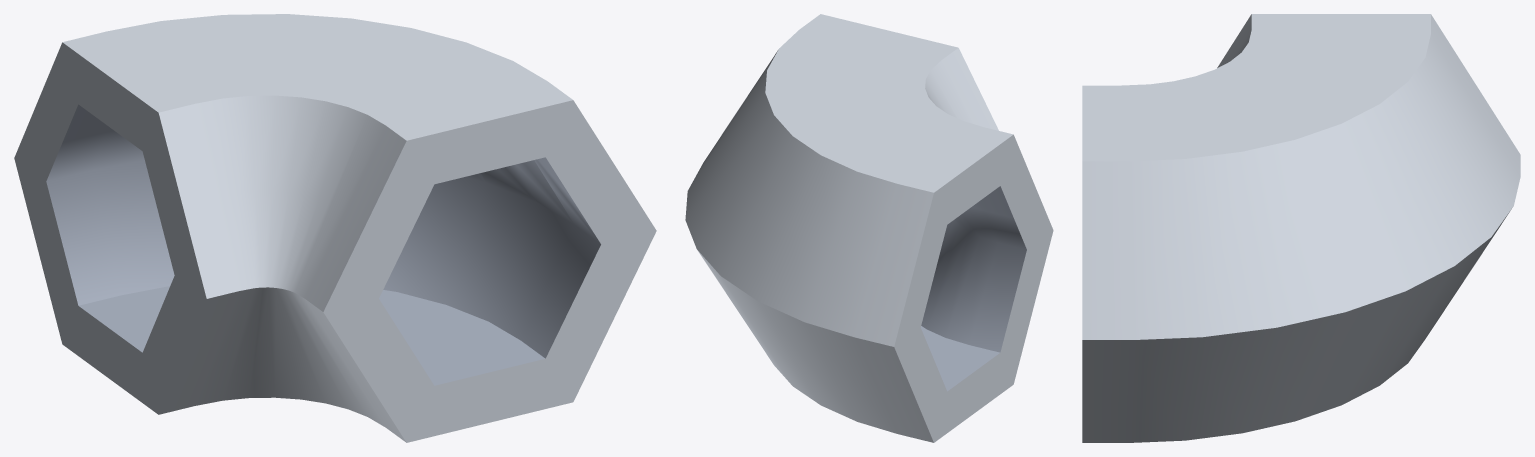
File: pipe_cornerRound.dae
3 views of the same model, side by side, from view 1: azimuth 30°, elevation 25°; view 2: azimuth 150°, elevation 25°; view 3: azimuth 270°, elevation 25° (orthographic). The views are drawn at different scales.
Parts seen in each view (by area): view 1: pipe_cornerRound; view 2: pipe_cornerRound; view 3: pipe_cornerRound.
Part boxes in pixels (left/top/right/bottom): pipe_cornerRound: left=14, top=14, right=656, bottom=442; pipe_cornerRound: left=685, top=14, right=1053, bottom=442; pipe_cornerRound: left=1082, top=14, right=1520, bottom=442.
Size of the model in its own units: 0.8464 by 0.6 by 0.8464.
